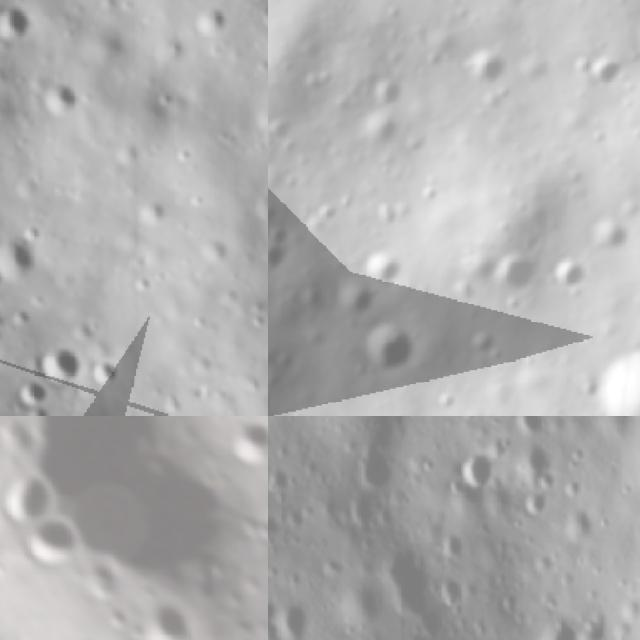crater: (52, 432, 251, 616), (14, 506, 88, 575), (127, 587, 214, 640), (353, 320, 420, 386), (589, 333, 640, 416), (374, 554, 435, 620), (492, 247, 544, 303), (223, 416, 268, 477), (576, 214, 632, 263), (543, 251, 592, 302), (459, 44, 508, 92), (330, 280, 380, 324), (38, 339, 82, 388), (353, 110, 402, 154), (0, 231, 42, 282), (362, 248, 413, 289), (33, 72, 79, 116), (236, 496, 268, 558), (589, 49, 632, 93), (270, 597, 312, 639), (370, 72, 411, 113), (352, 446, 398, 482), (462, 323, 502, 362), (0, 0, 33, 47), (459, 449, 495, 491), (532, 615, 592, 640), (191, 2, 227, 40), (12, 372, 51, 407), (563, 502, 597, 542), (90, 356, 127, 391), (350, 494, 384, 530), (520, 488, 558, 519), (268, 239, 296, 279), (525, 443, 552, 484), (442, 280, 480, 308), (268, 220, 301, 251), (565, 50, 599, 80), (439, 529, 467, 564), (312, 199, 344, 228), (441, 580, 465, 607), (268, 383, 282, 416), (245, 416, 268, 419)
